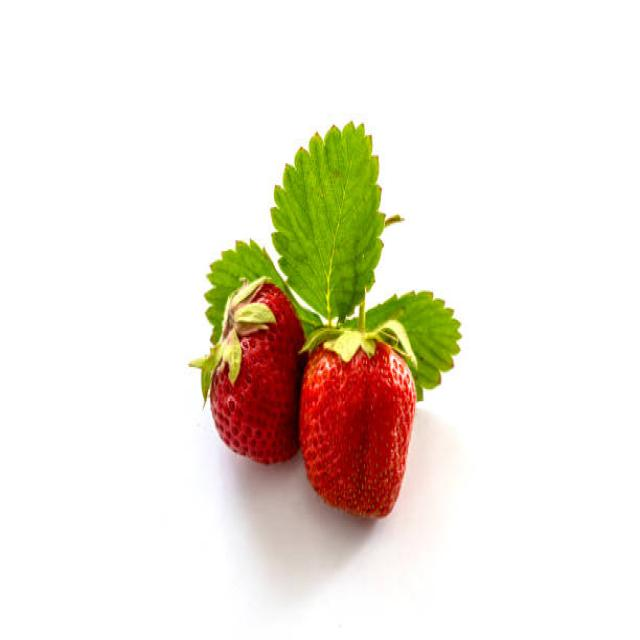Healthy Fruit: (300, 344, 415, 520), (209, 280, 309, 469)
